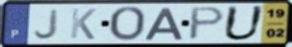A: (143, 7, 185, 41)
J: (32, 8, 61, 40)
K: (69, 7, 98, 41)
O: (107, 5, 148, 43)
P: (187, 5, 228, 42)
U: (221, 4, 268, 42)
